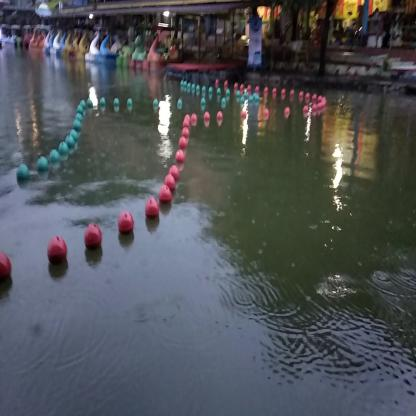green_buoy: (18, 166, 30, 184), (49, 150, 60, 165), (58, 141, 69, 153), (67, 136, 76, 150), (38, 157, 48, 169)
red_buoy: (48, 236, 65, 265), (85, 223, 101, 250), (0, 253, 11, 288), (119, 213, 135, 235), (146, 196, 158, 223), (161, 184, 173, 206), (166, 173, 176, 194), (176, 147, 186, 166)
